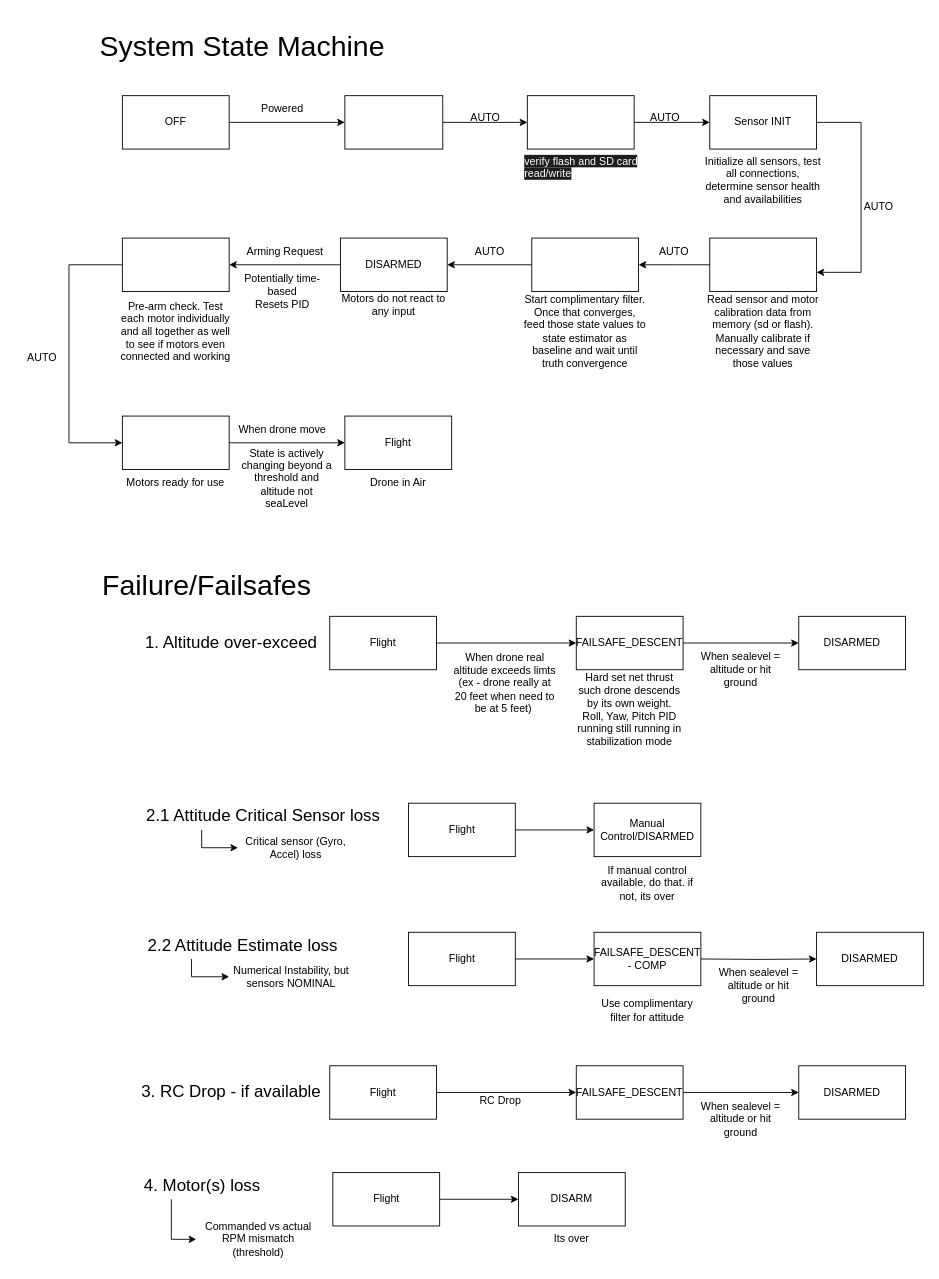
The diagram is 939 pixels wide and 1279 high, and some of its shapes have lost their labels. Here are the shapes that lost their labels. From the top down, the box of each, then its label:
(344, 95, 443, 149): ON
(526, 95, 634, 149): Memory Check
(121, 237, 229, 291): Motor Check
(531, 237, 639, 291): State Estimation Init
(709, 237, 817, 291): Calibration Check
(121, 415, 229, 469): ARMED
